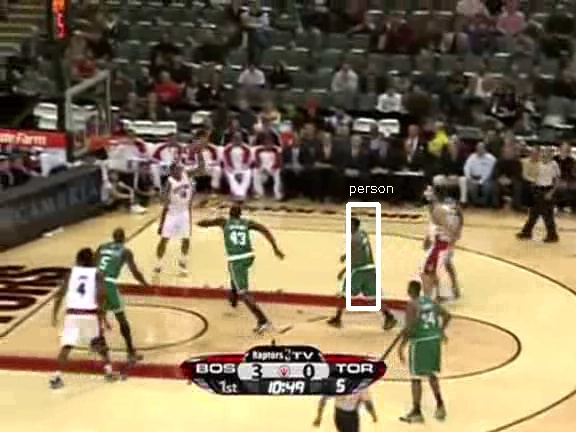person: (347, 225, 381, 306), (346, 225, 380, 306), (348, 225, 382, 306), (347, 224, 381, 305), (347, 226, 381, 307)
target_negative: (282, 19, 431, 337), (198, 101, 388, 188), (289, 412, 471, 423), (501, 397, 542, 416), (153, 191, 159, 307), (513, 376, 516, 423)
